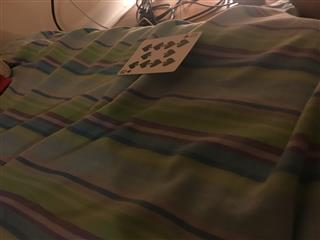TenOfSpades: (117, 30, 202, 76)
